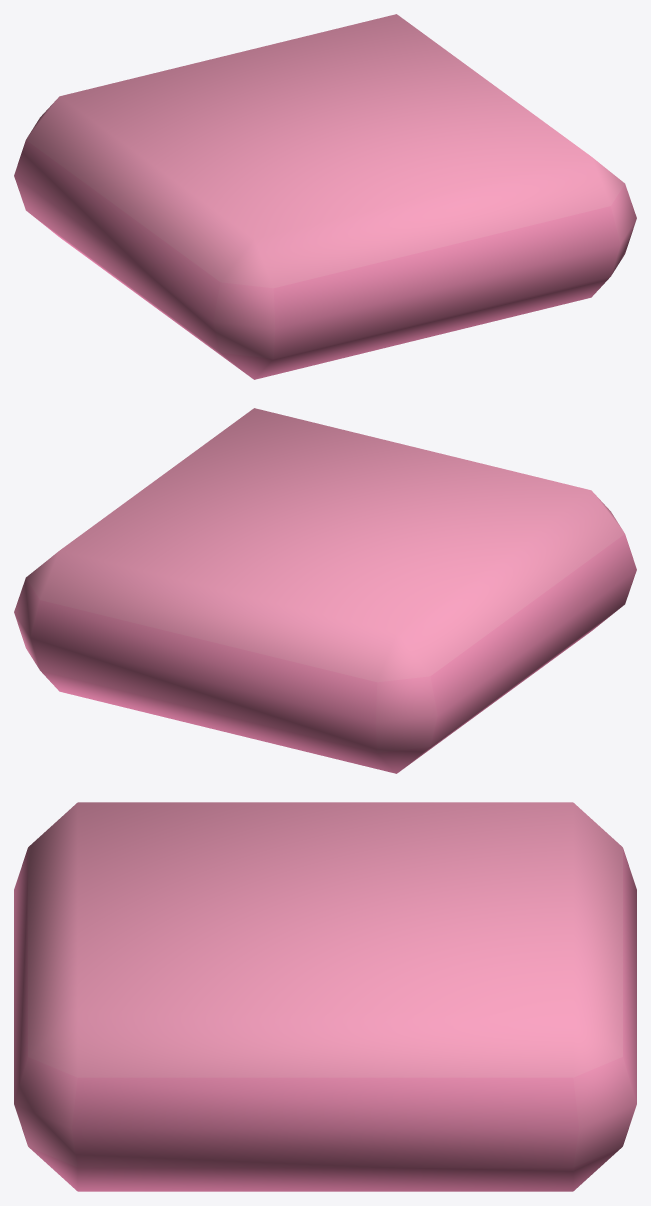
File: towel_pink.fbx
The picture shows the model from 3 angles, top to bottom: view 1: azimuth 30°, elevation 25°; view 2: azimuth 150°, elevation 25°; view 3: azimuth 270°, elevation 25°; orthographic projection. The views are drawn at different scales.
Visible parts, largest first — view 1: towel_pink; view 2: towel_pink; view 3: towel_pink.
Part boxes in pixels (x1,y1,x2,y2): towel_pink: (14,14,636,379); towel_pink: (14,408,636,773); towel_pink: (14,802,636,1191).
Bounding box in the file's own units: 0.6284 × 0.2 × 0.6284.
